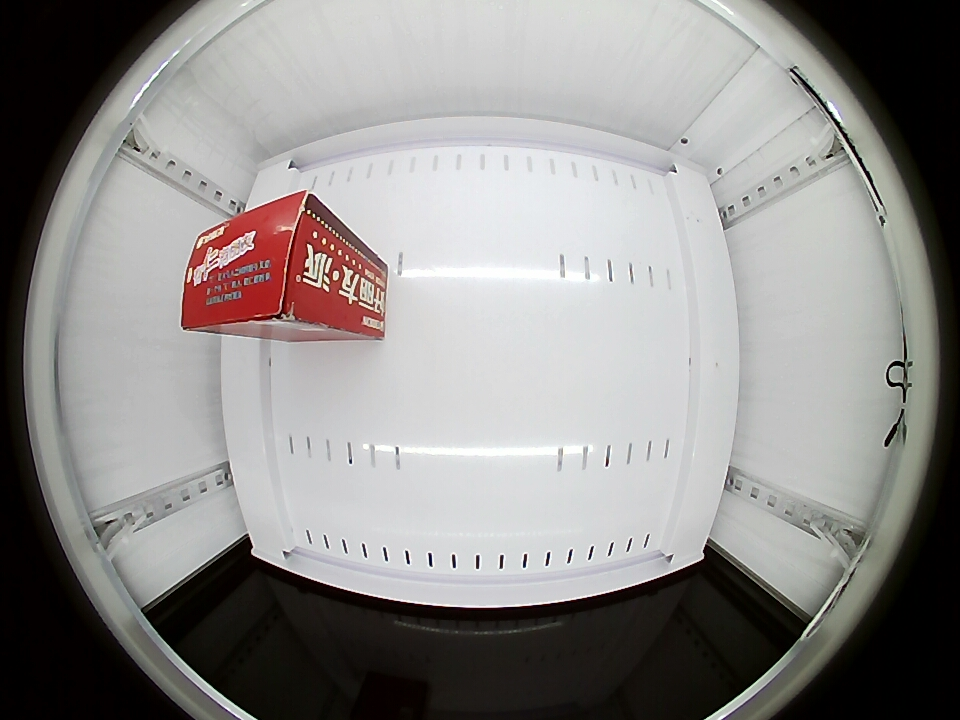haoliyou: (181, 190, 338, 333)
